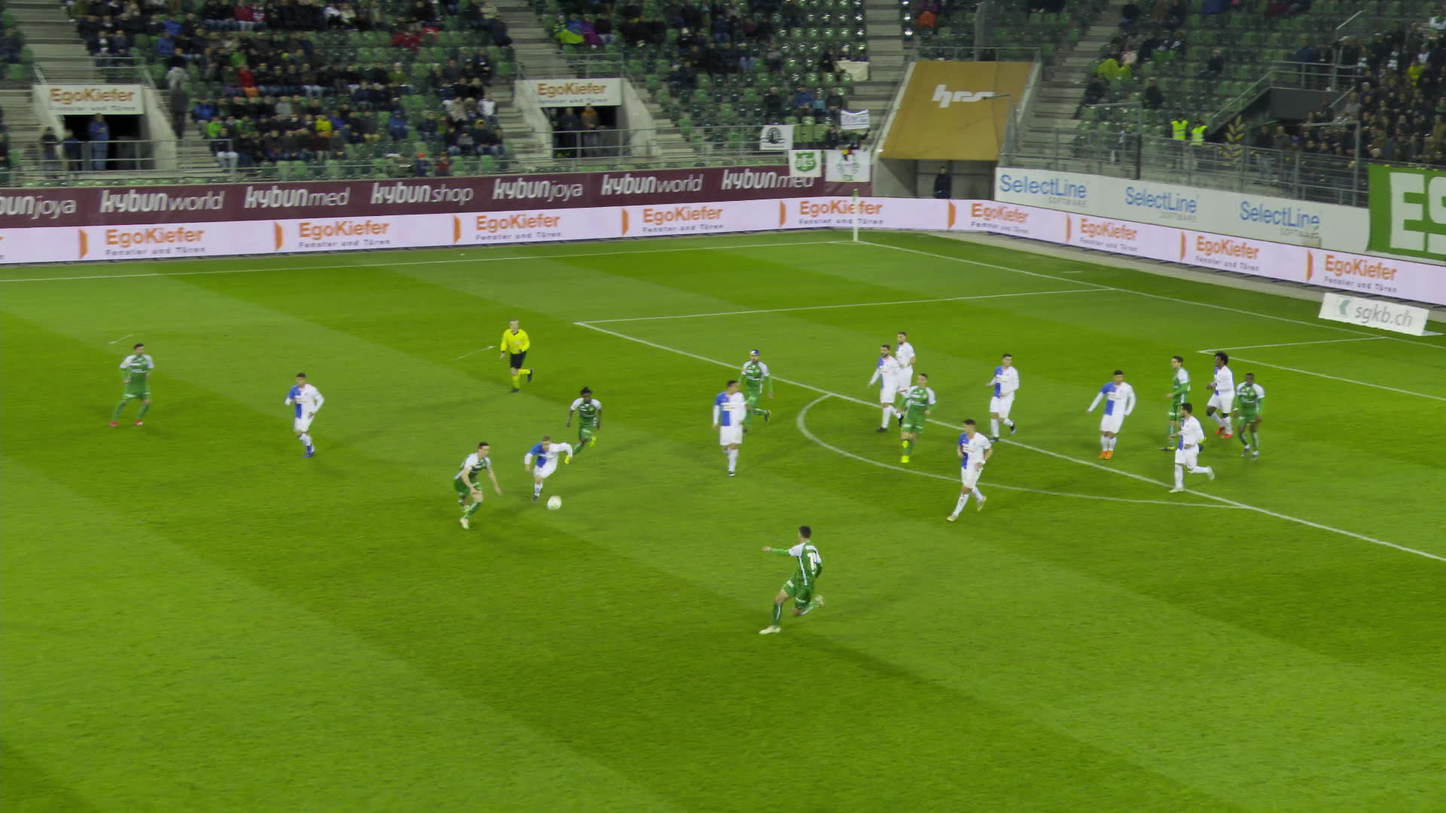ball: (548, 497, 561, 510)
player: (769, 521, 828, 630), (939, 419, 989, 525), (1154, 356, 1204, 454), (1165, 403, 1214, 492), (452, 440, 501, 528), (1091, 368, 1136, 455), (981, 351, 1020, 445), (860, 346, 901, 432), (558, 390, 606, 462), (113, 343, 152, 431), (898, 369, 935, 461), (1205, 352, 1240, 442), (520, 437, 567, 501), (1227, 373, 1261, 459), (282, 377, 316, 460), (710, 380, 739, 475), (738, 349, 771, 431), (895, 330, 915, 416)
referee: (498, 315, 536, 391)
